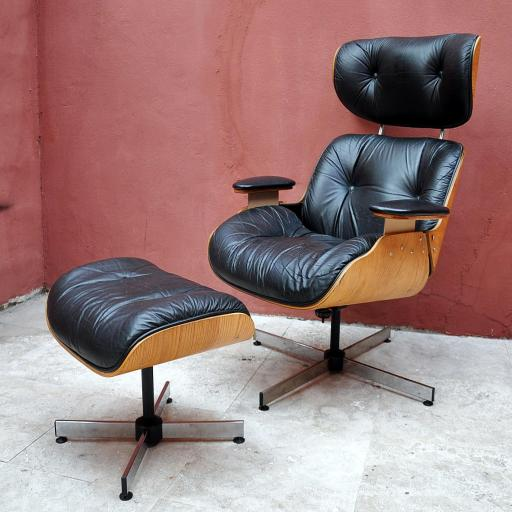chair: (44, 30, 484, 500), (207, 33, 481, 412), (47, 255, 253, 502)
wall: (0, 0, 512, 340)
